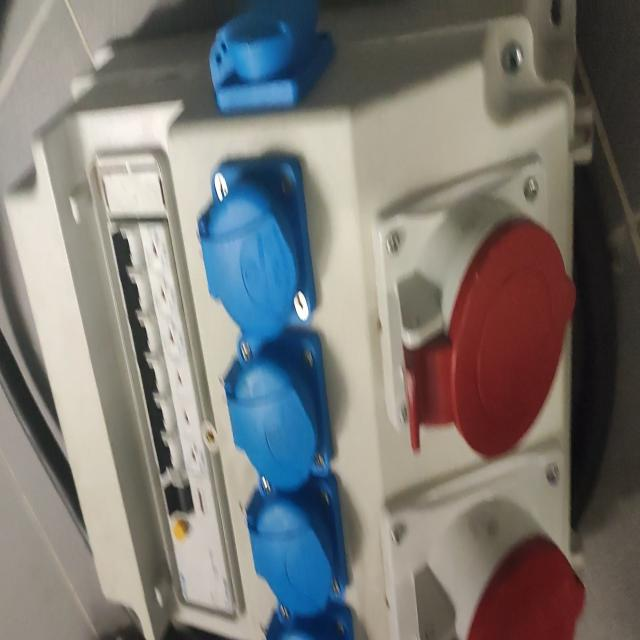400v socket: (372, 152, 576, 456), (379, 436, 586, 640)
house plug covered: (199, 162, 315, 339), (225, 328, 336, 490), (246, 481, 349, 617)
